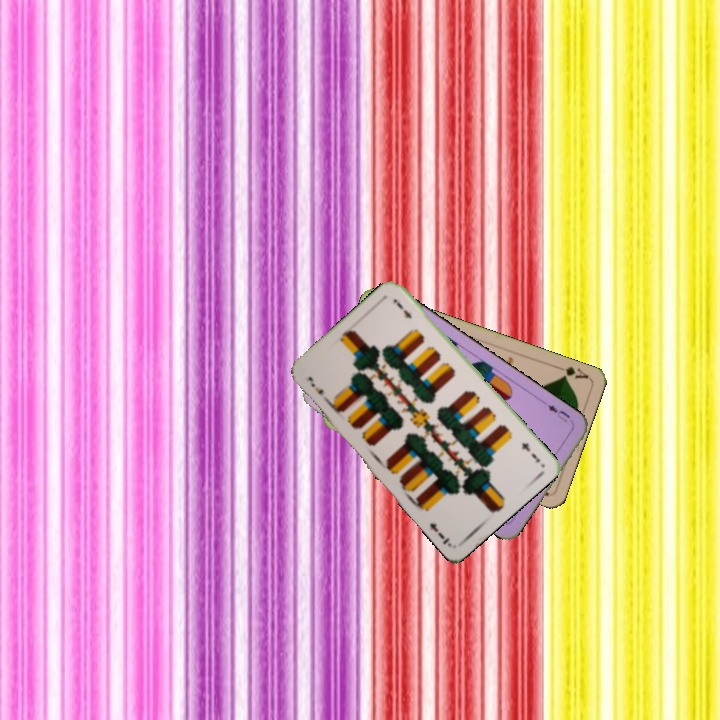E7: (304, 372, 332, 405), (517, 438, 543, 465)
EU: (543, 401, 576, 426)
GA: (551, 362, 591, 382)
